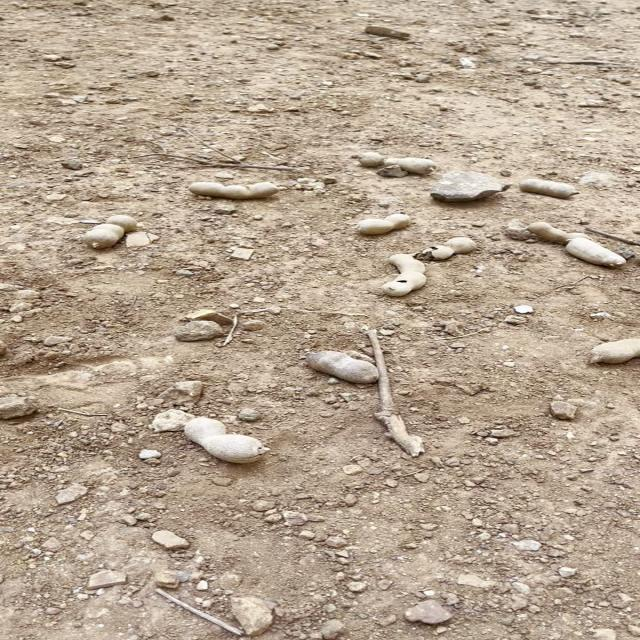tamarind: (178, 411, 274, 459), (294, 348, 390, 383), (353, 147, 437, 175), (559, 236, 629, 266), (84, 211, 135, 249), (379, 253, 424, 295), (524, 220, 596, 242), (181, 182, 279, 198), (516, 177, 580, 197), (348, 214, 416, 230)
